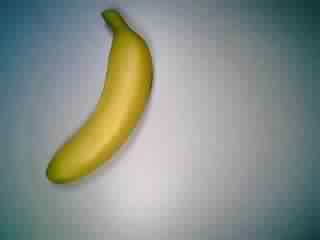banana: (39, 8, 153, 184)
